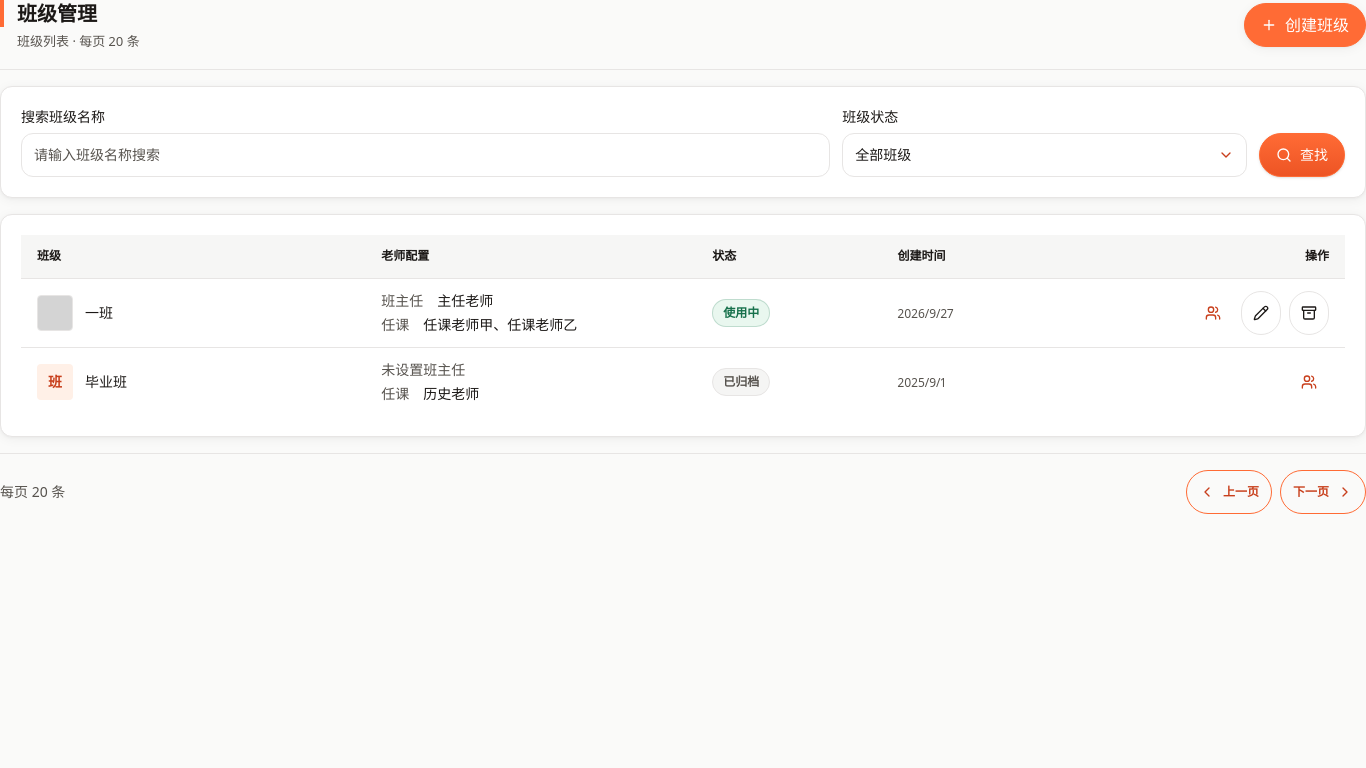
Scenario: archive action opens a separate confirmation dialog and can be canceled
What coordinates should you click on to do the following:
click the button named "归档班级一班"
I would click on:
 (1309, 313)
Its box is [1289,291,1329,335].
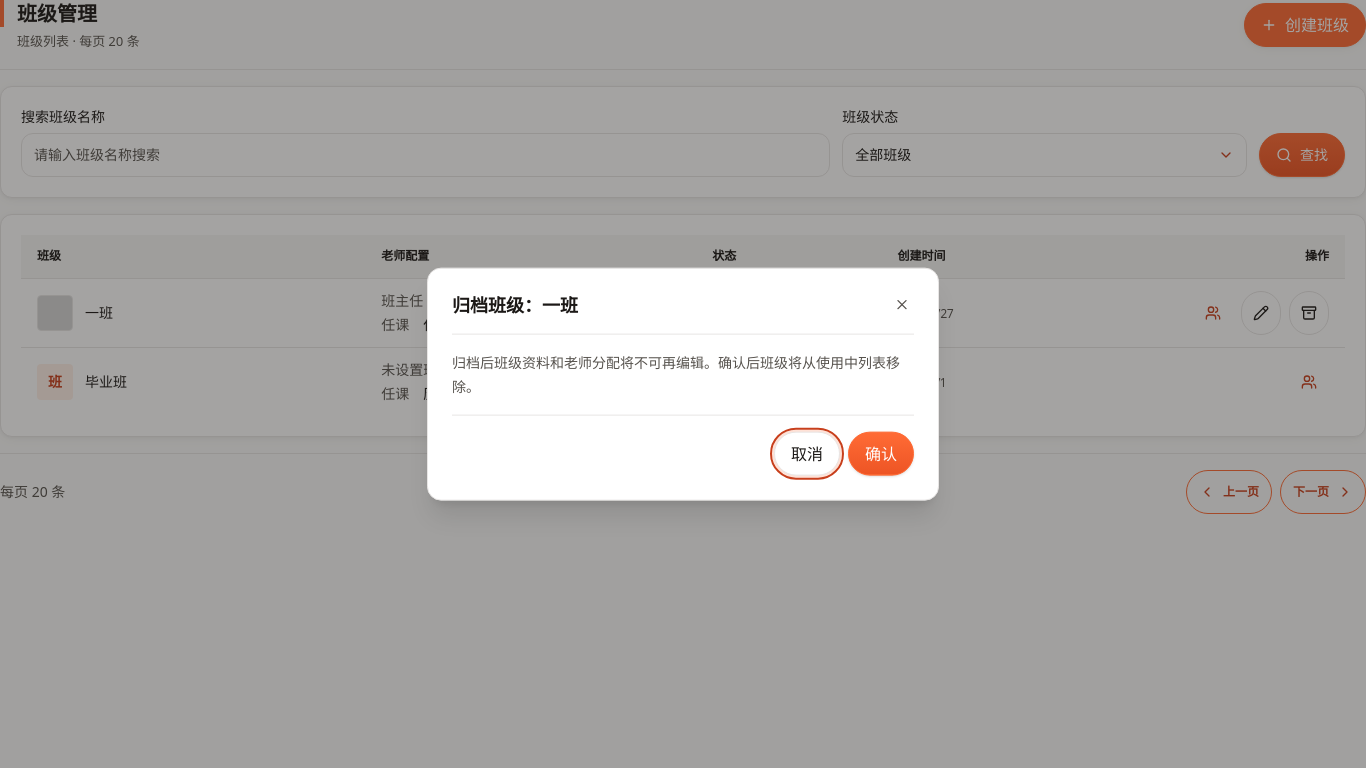
Expected: the dialog "归档班级：一班" is shown, [427,268,939,500]
Expected: the text "归档后班级资料和老师分配将不可再编辑。确认后班级将从使用中列表移除。" is shown, [452,350,914,398]
Expected: the button "取消" is shown
What coordinates should you click on to do the following:
click the button "取消"
I would click on:
 (807, 453)
Its box is [774,431,840,475].
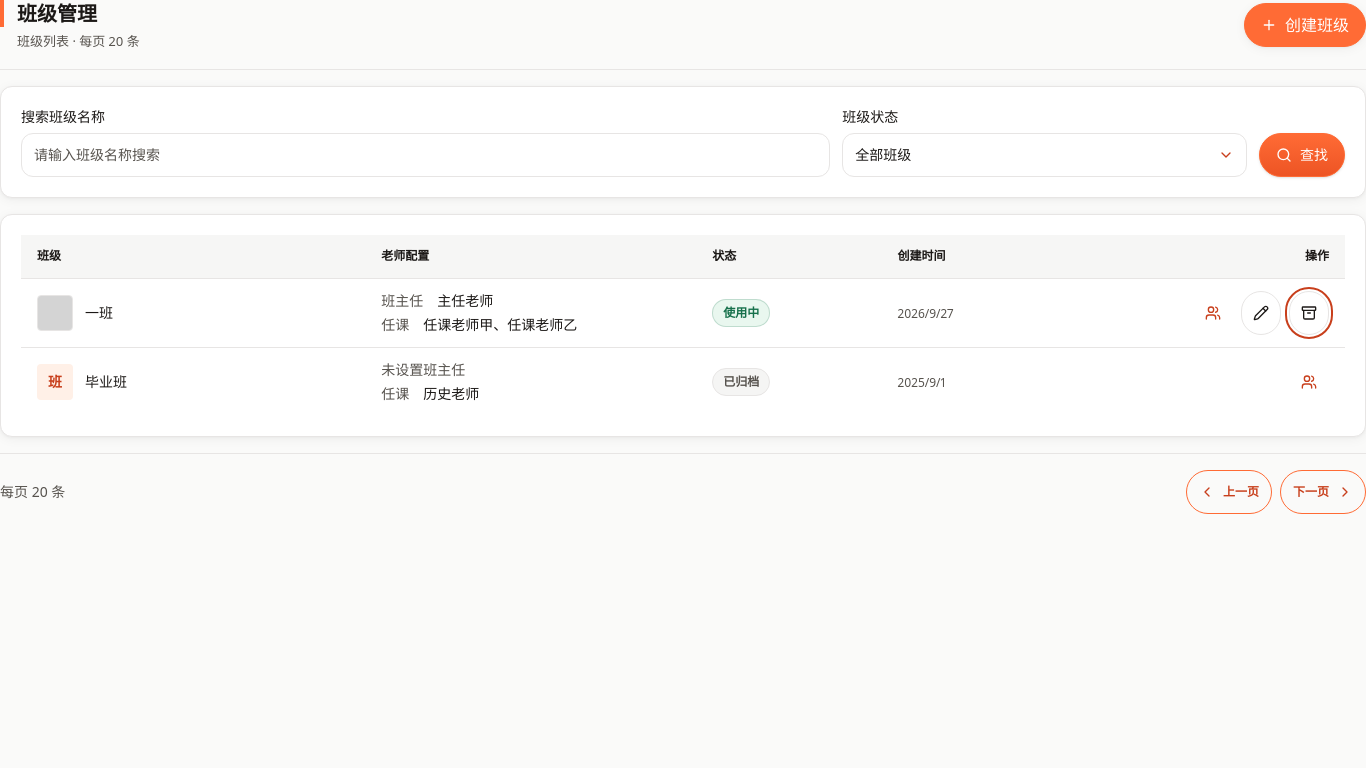
Expected: the heading "归档班级：一班" is gone
